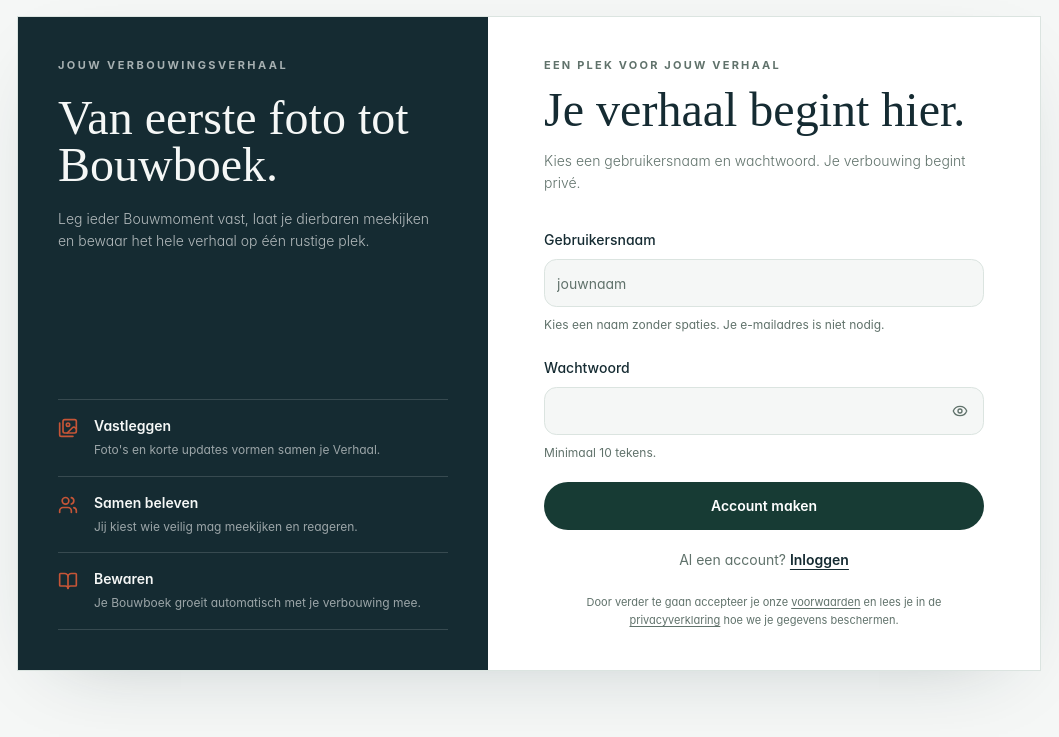
Scenario: username/password auth page › validates signup before sending credentials
Type "bouw-eigenaar" into the field labelled "Gebruikersnaam" at (764, 283), box top-left (544, 259), bottom-right (984, 307)
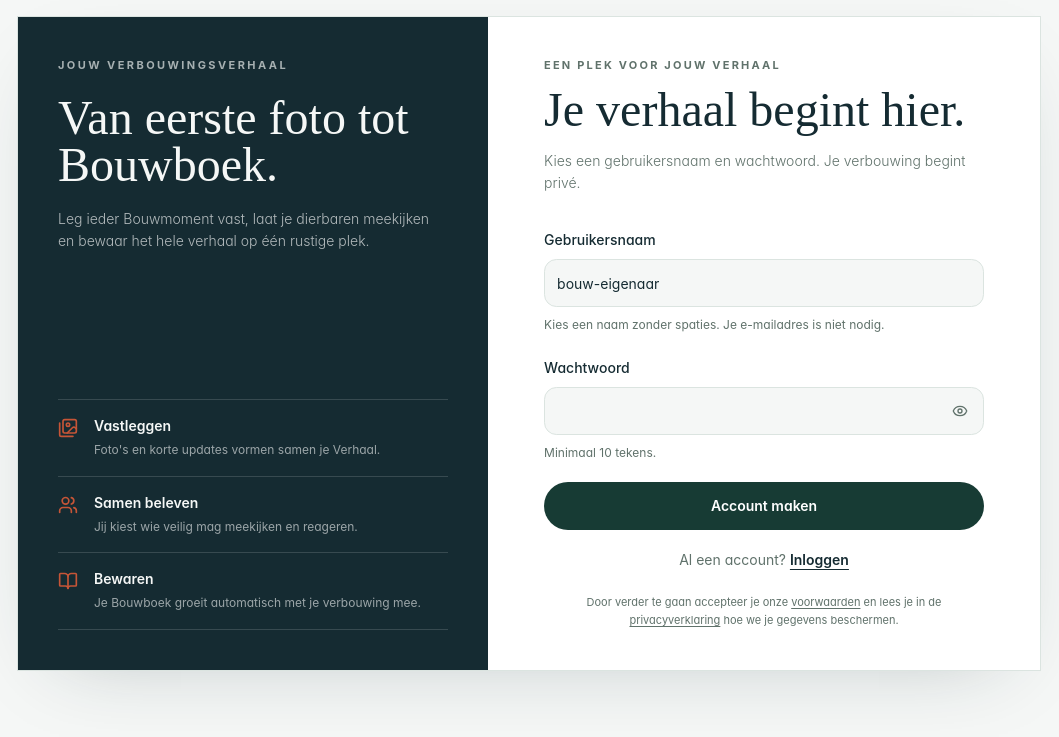
Type "Bouw!dag27" into the password field labelled "Wachtwoord" at (764, 410), box top-left (544, 386), bottom-right (984, 434)
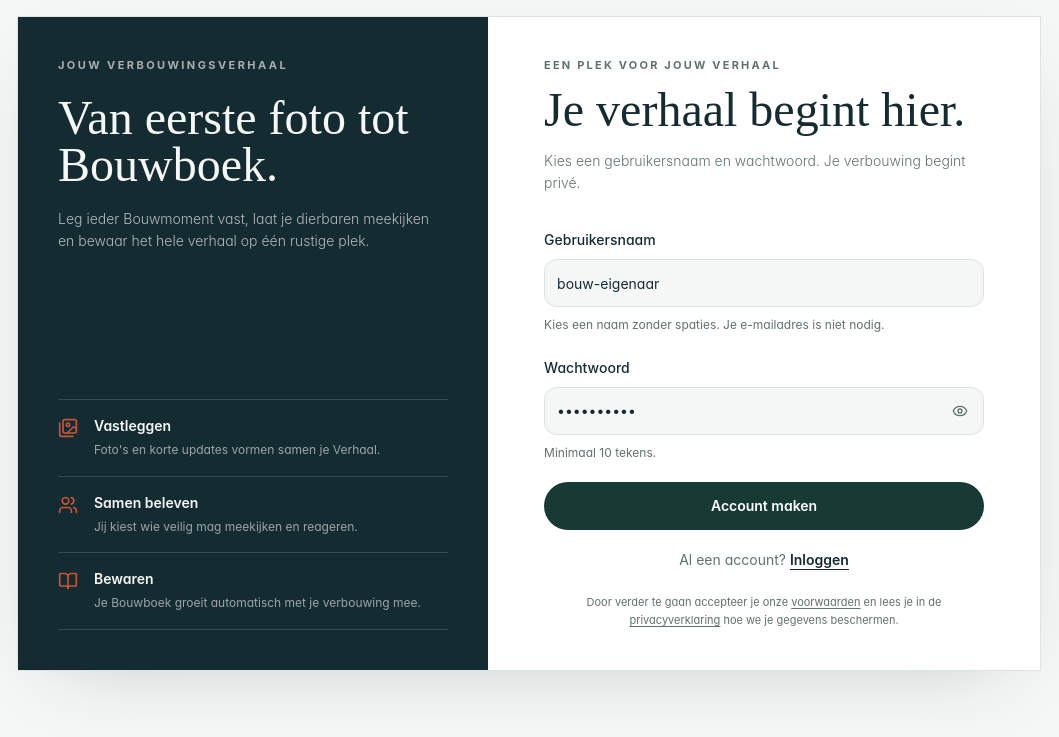
Type "te kort" into the password field labelled "Wachtwoord" at (764, 410), box top-left (544, 386), bottom-right (984, 434)
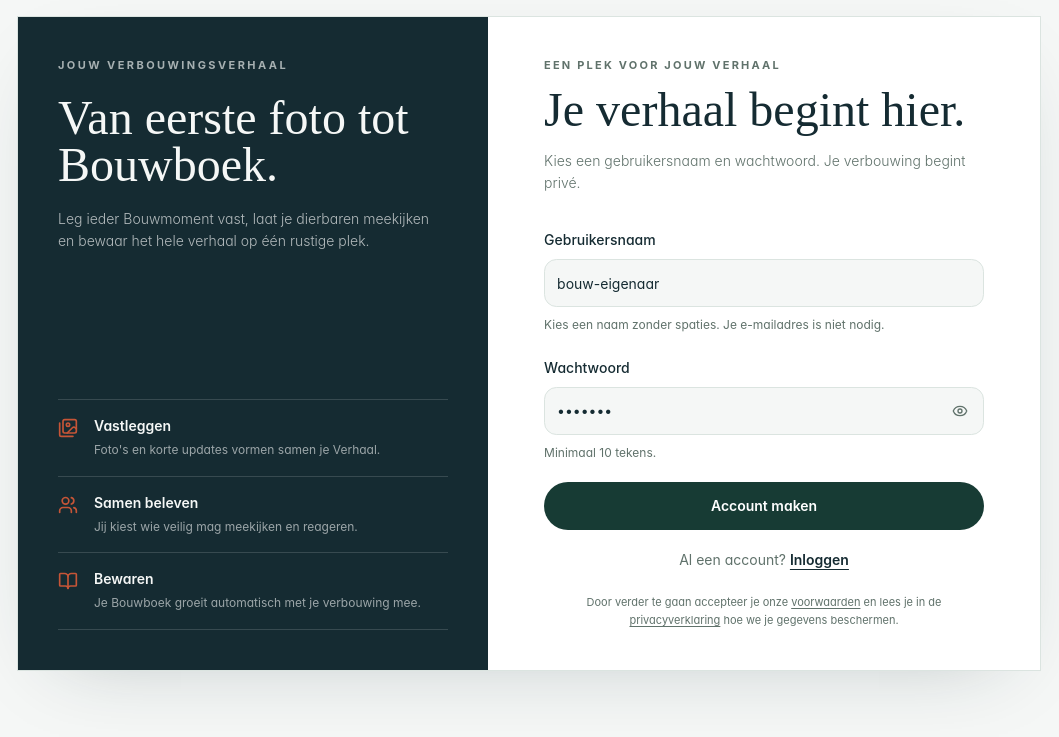
Submit the form named "Account maken", box top-left (544, 227), bottom-right (984, 570)
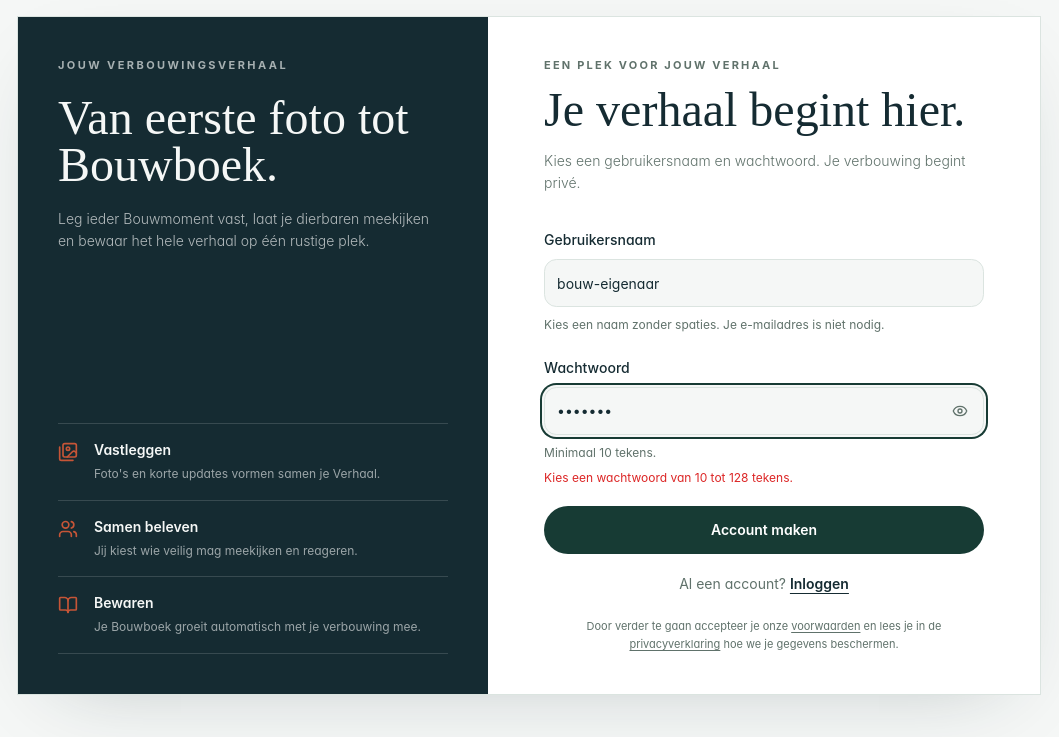
Now the message shows "10 tot 128 tekens", box top-left (544, 470), bottom-right (793, 485)
